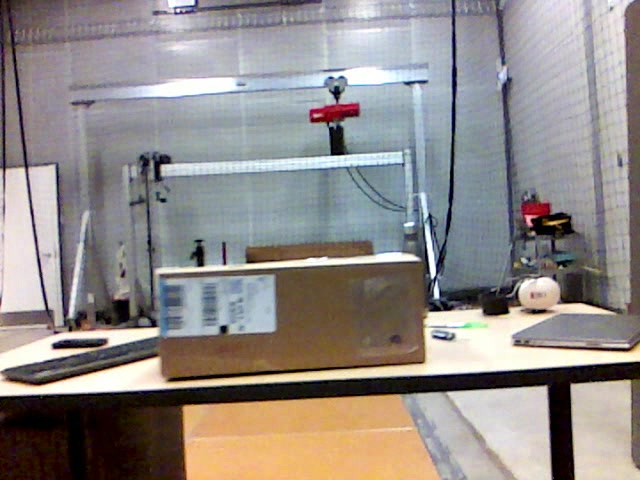box: (157, 256, 425, 370)
